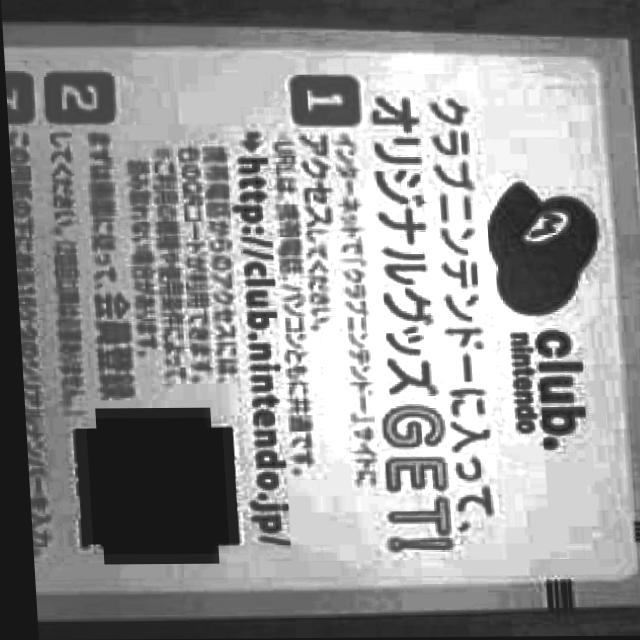qr_code: (79, 418, 221, 555)
